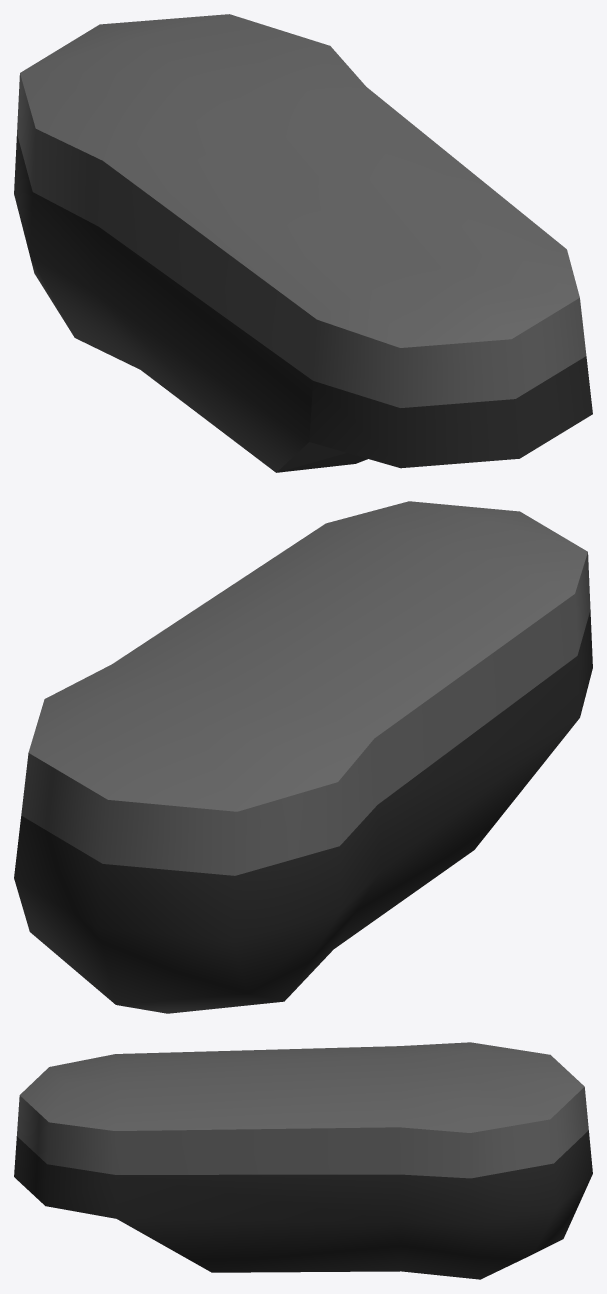
File: SM_bootL.FBX
3 renders of one model, top to bottom at view 1: azimuth 30°, elevation 25°; view 2: azimuth 150°, elevation 25°; view 3: azimuth 270°, elevation 25°, orthographic. The views are drawn at different scales.
Parts seen in each view (by area): view 1: boot_L; view 2: boot_L; view 3: boot_L.
Boxes of the visible parts, x1=… form: boot_L: x1=14, y1=14, x2=592, y2=472; boot_L: x1=14, y1=501, x2=592, y2=1013; boot_L: x1=14, y1=1042, x2=592, y2=1279.
Bounding box in the file's own units: 7.71 × 6.67 × 18.04.
